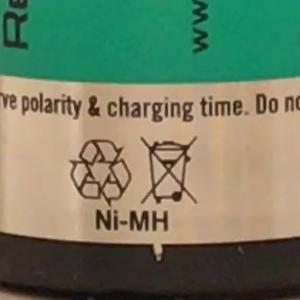NI-MH: (86, 201, 178, 241)
